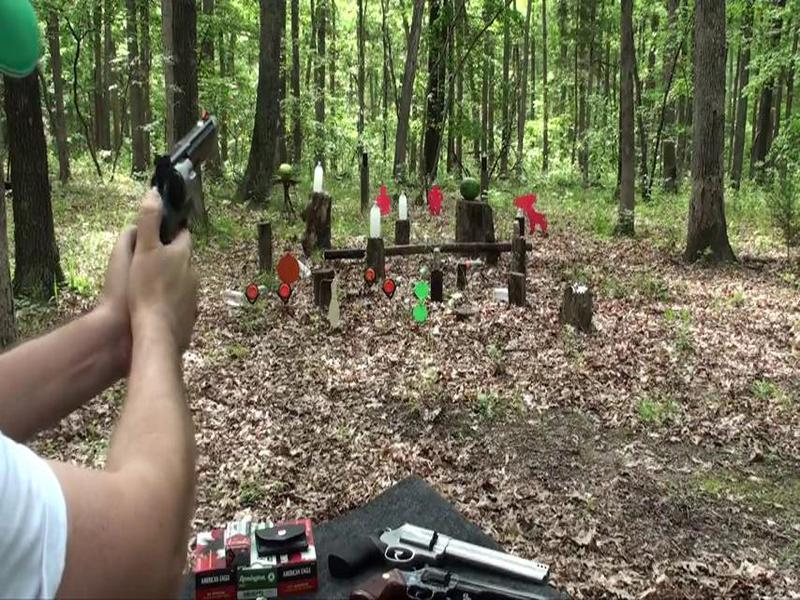Revolver: (135, 108, 231, 275)
